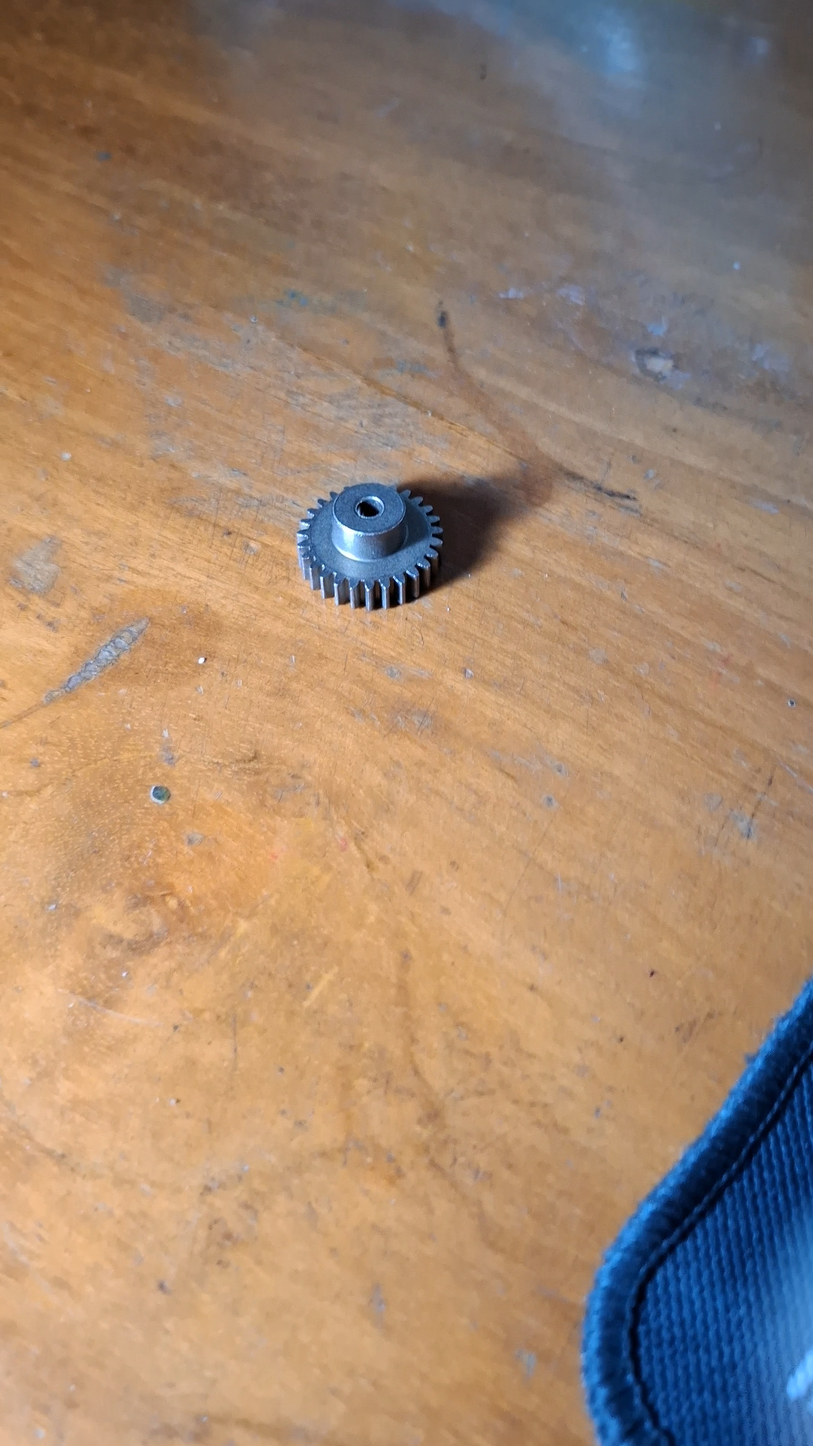spur gear: (297, 484, 442, 610)
